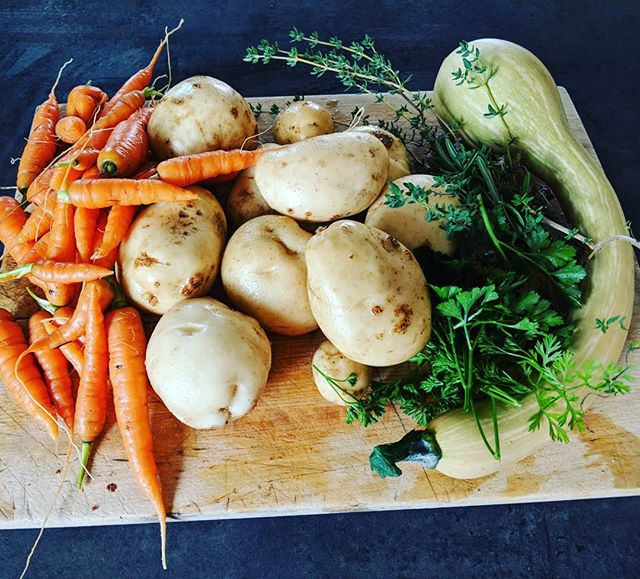boiled potatoes: (305, 223, 434, 370), (141, 302, 273, 428), (222, 212, 332, 338), (122, 189, 228, 315), (252, 137, 391, 224), (144, 72, 265, 155), (307, 331, 379, 408), (271, 94, 345, 161)
